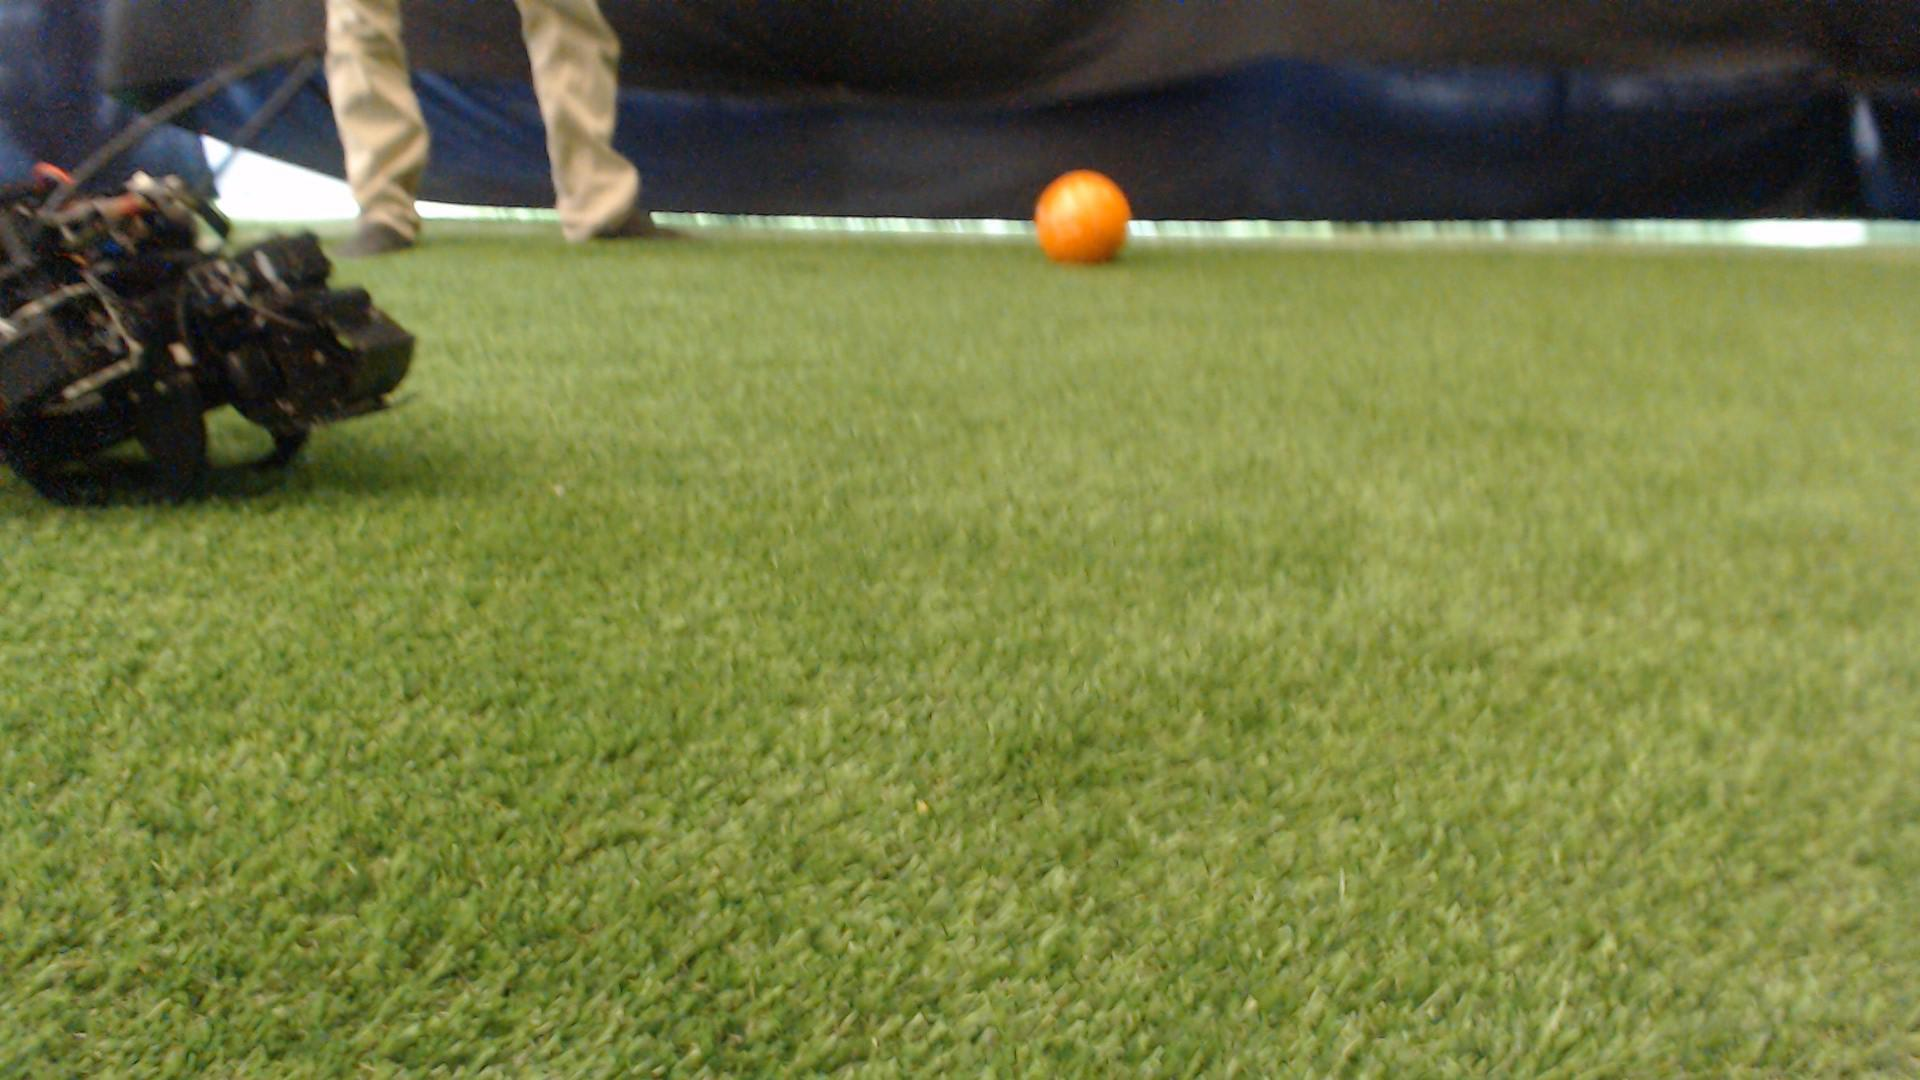bola: (1015, 162, 1159, 290)
